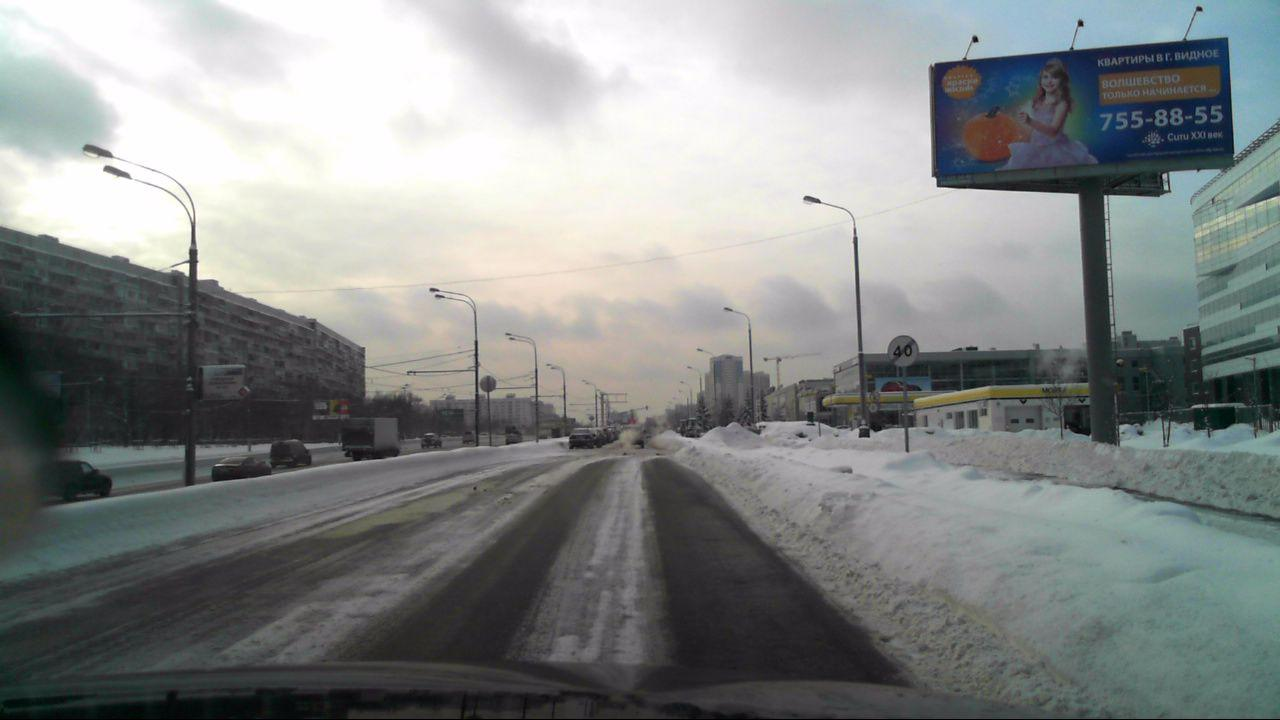3_25: (885, 333, 920, 369)
